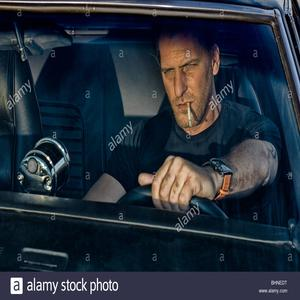cigarette: (185, 100, 194, 128)
